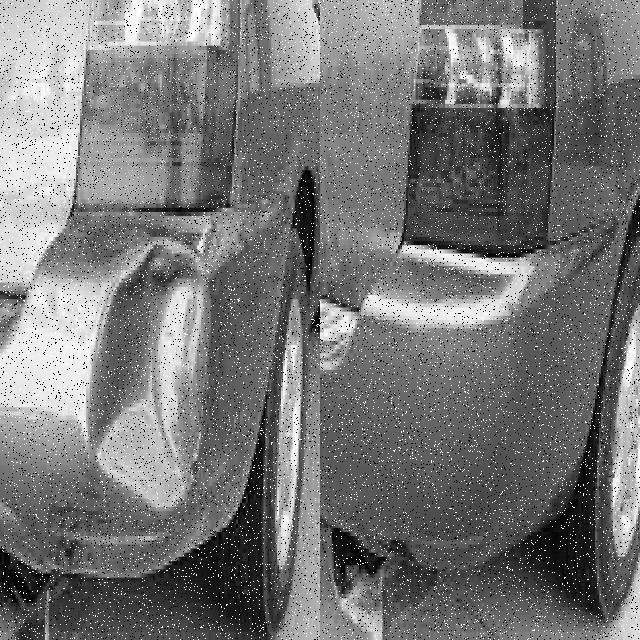rear-bumper-dent: (55, 183, 285, 519)
